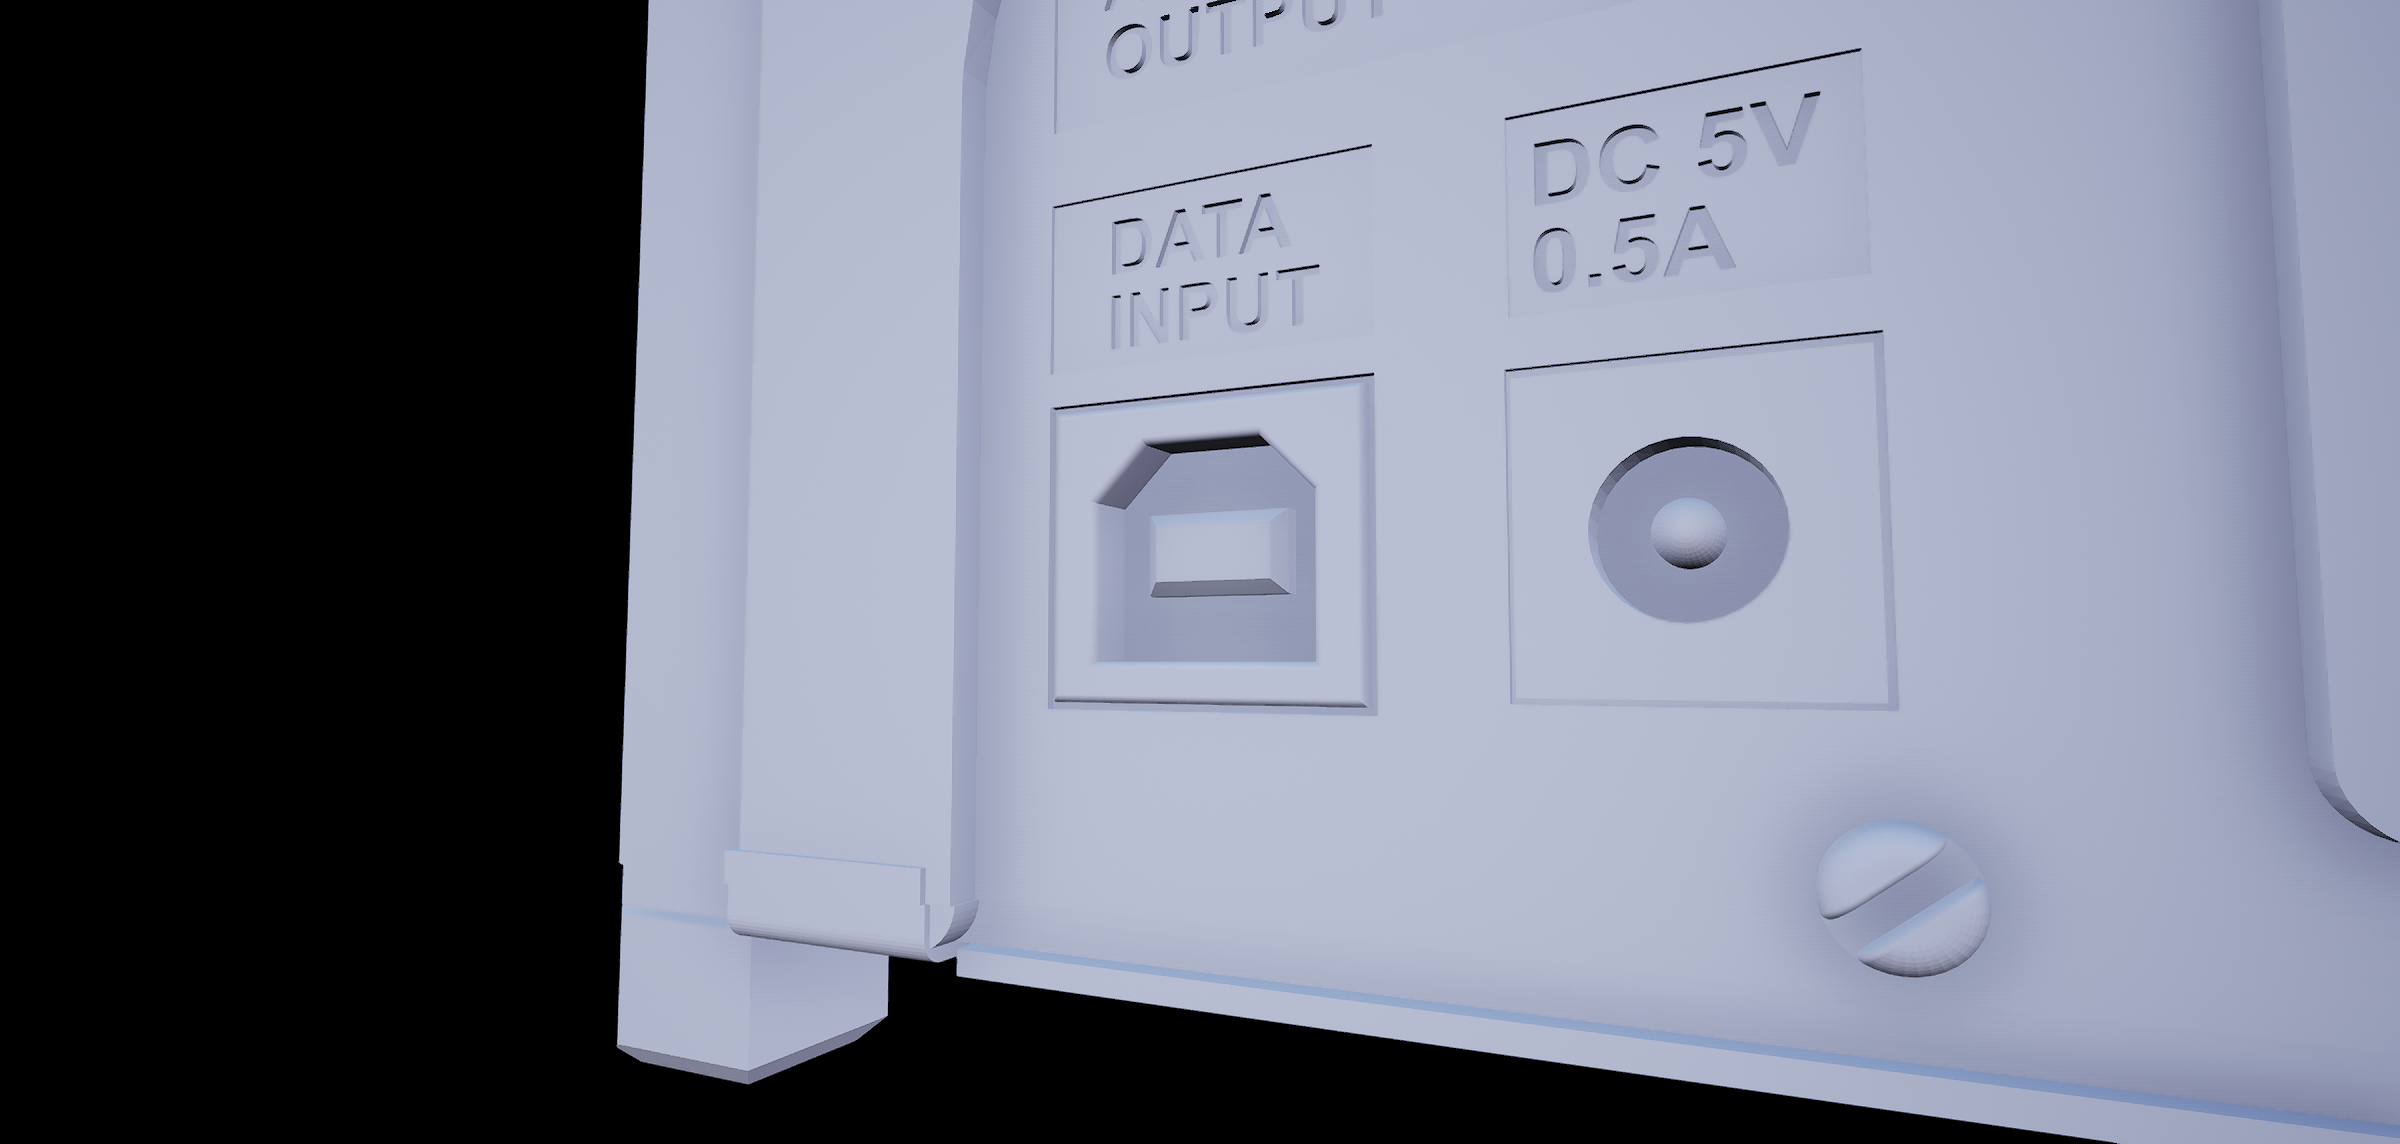dc: (1563, 420, 1808, 639)
usb: (1094, 429, 1344, 678)
